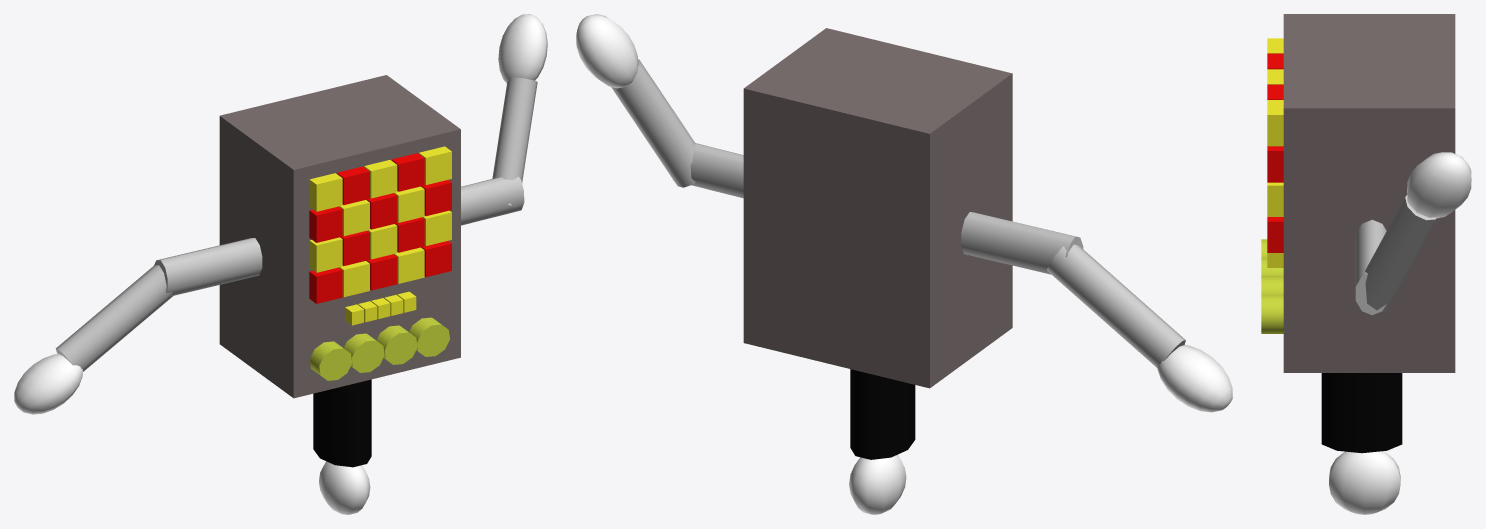
Rendered from meta5.obj.
3 renders of one model, left to right at view 1: azimuth 30°, elevation 25°; view 2: azimuth 150°, elevation 25°; view 3: azimuth 270°, elevation 25°, orthographic. The views are drawn at different scales.
Parts seen in each view (by area): view 1: 037_Box, 002_Cylinder_8, 007_Cylinder_4_-_baked, 001_Cylinder_7, 000_Cylinder_6, 003_Sphere_2, 005_Sphere_1, 004_Cylinder_5, 006_Sphere, 010_Cylinder_1, 008_Cylinder_2, 009_Cylinder_3 (+21 smaller); view 2: 037_Box, 002_Cylinder_8, 007_Cylinder_4_-_baked, 001_Cylinder_7, 000_Cylinder_6, 003_Sphere_2, 005_Sphere_1, 006_Sphere, 004_Cylinder_5; view 3: 037_Box, 007_Cylinder_4_-_baked, 000_Cylinder_6, 006_Sphere, 005_Sphere_1, 004_Cylinder_5, 009_Cylinder_3, 012_Box_26, 024_Box_11_-_baked, 027_Box_25, 036_Box_20, 008_Cylinder_2 (+6 smaller).
Part boxes in pixels (bbox=[...]): 037_Box: bbox=[219, 75, 460, 398]; 002_Cylinder_8: bbox=[55, 265, 172, 371]; 007_Cylinder_4_-_baked: bbox=[313, 379, 371, 467]; 001_Cylinder_7: bbox=[154, 238, 262, 296]; 000_Cylinder_6: bbox=[492, 77, 537, 206]; 003_Sphere_2: bbox=[14, 354, 82, 414]; 005_Sphere_1: bbox=[498, 14, 547, 83]; 004_Cylinder_5: bbox=[461, 176, 524, 225]; 006_Sphere: bbox=[319, 461, 370, 514]; 010_Cylinder_1: bbox=[309, 341, 352, 380]; 008_Cylinder_2: bbox=[376, 325, 417, 364]; 009_Cylinder_3: bbox=[409, 317, 449, 356]; 037_Box: bbox=[743, 28, 1012, 388]; 002_Cylinder_8: bbox=[1047, 244, 1185, 367]; 007_Cylinder_4_-_baked: bbox=[850, 369, 915, 459]; 001_Cylinder_7: bbox=[961, 212, 1083, 274]; 000_Cylinder_6: bbox=[611, 59, 695, 187]; 003_Sphere_2: bbox=[1157, 345, 1232, 412]; 005_Sphere_1: bbox=[576, 14, 637, 88]; 006_Sphere: bbox=[849, 454, 906, 514]; 004_Cylinder_5: bbox=[673, 143, 743, 198]; 037_Box: bbox=[1283, 14, 1455, 372]; 007_Cylinder_4_-_baked: bbox=[1321, 373, 1402, 453]; 000_Cylinder_6: bbox=[1354, 195, 1436, 312]; 006_Sphere: bbox=[1329, 451, 1400, 514]; 005_Sphere_1: bbox=[1407, 152, 1471, 218]; 004_Cylinder_5: bbox=[1355, 219, 1386, 315]; 009_Cylinder_3: bbox=[1261, 294, 1283, 333]; 012_Box_26: bbox=[1267, 100, 1283, 146]; 024_Box_11_-_baked: bbox=[1267, 146, 1283, 182]; 027_Box_25: bbox=[1267, 217, 1283, 252]; 036_Box_20: bbox=[1267, 182, 1283, 216]; 008_Cylinder_2: bbox=[1261, 276, 1283, 294].
Size of the model in its own units: 69.97 by 50.29 by 19.82.
